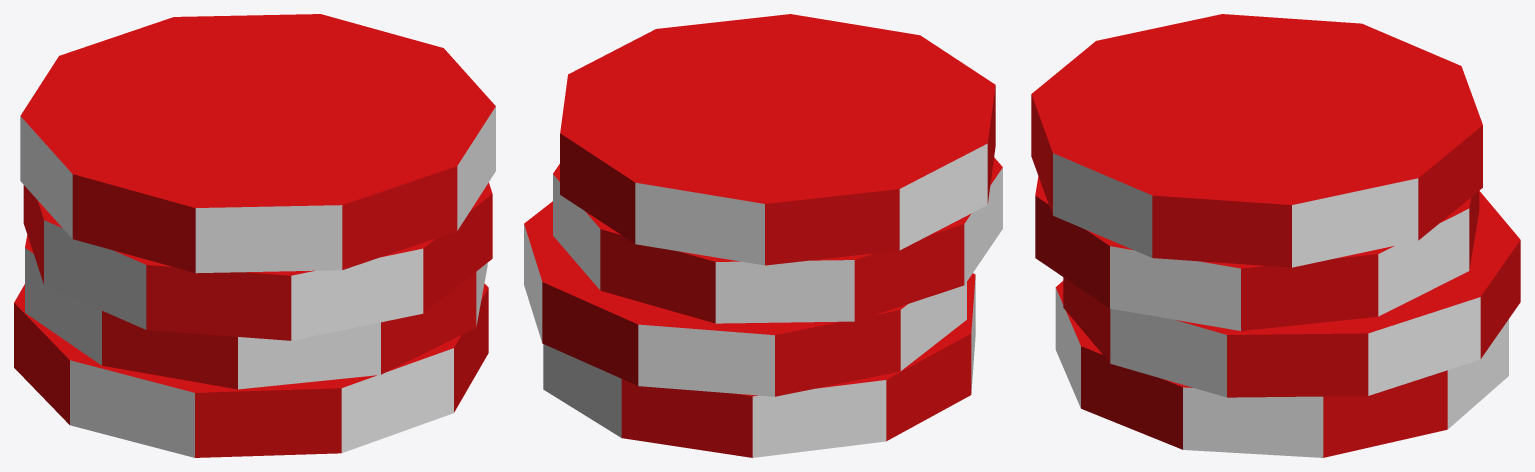
File: prop_chips_red.fbx
3 renders of one model, left to right at view 1: azimuth 30°, elevation 25°; view 2: azimuth 150°, elevation 25°; view 3: azimuth 270°, elevation 25°, orthographic. The views are drawn at different scales.
Visible parts, largest first — view 1: Cylinder.020; view 2: Cylinder.020; view 3: Cylinder.020.
Part boxes in pixels (bbox=[...]): Cylinder.020: bbox=[14, 14, 495, 457]; Cylinder.020: bbox=[524, 14, 1002, 457]; Cylinder.020: bbox=[1031, 14, 1520, 457].
Size of the model in its own units: 43.93 by 26.05 by 46.15.
